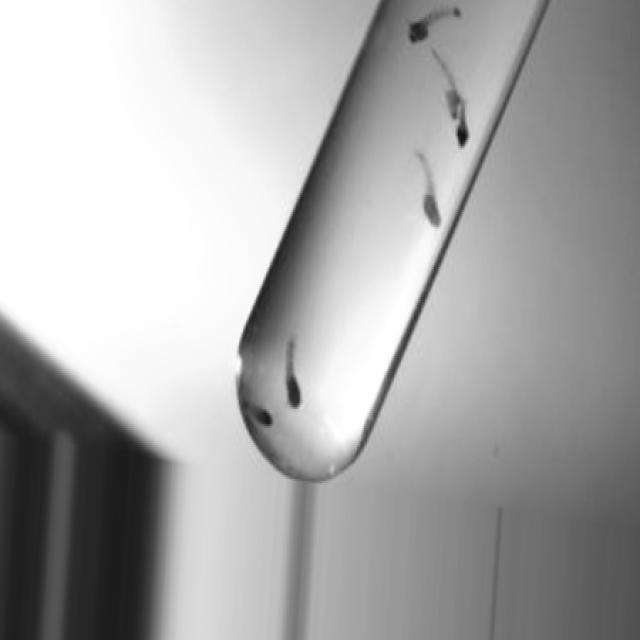larvas: (409, 2, 460, 46), (435, 49, 458, 115), (418, 153, 439, 223), (285, 338, 299, 412), (245, 396, 272, 425), (455, 92, 468, 143)
